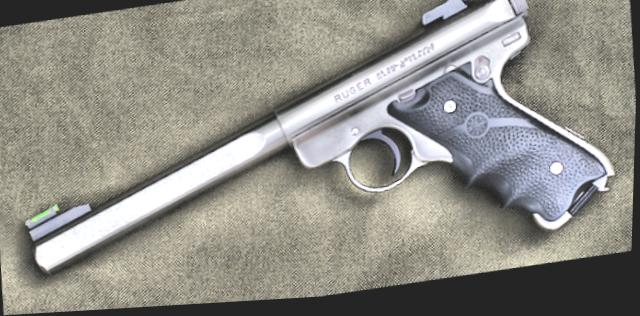pistol: (6, 0, 619, 308)
